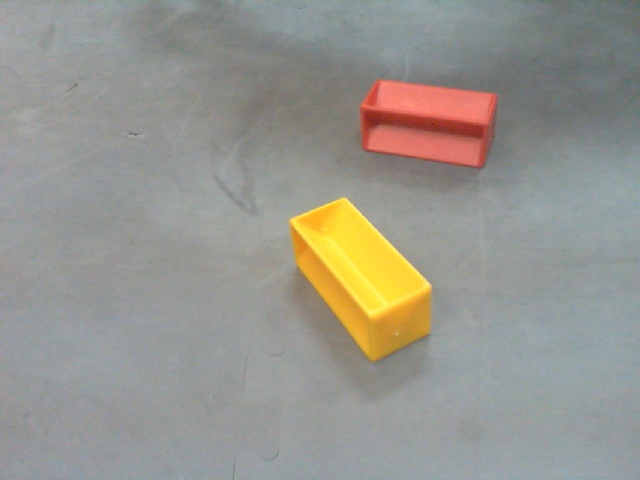RedSample: (359, 76, 500, 172)
YellowSample: (290, 198, 434, 363)
